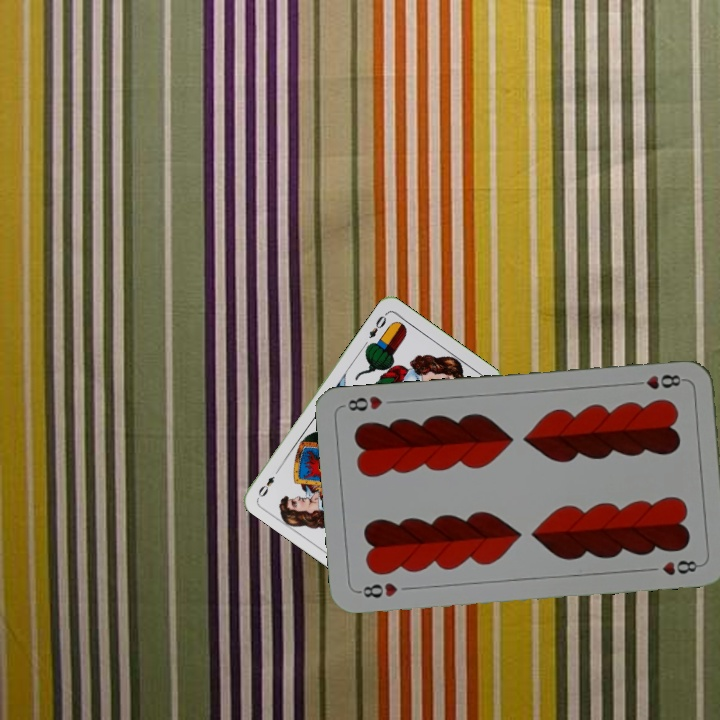EO: (365, 309, 390, 341)
H8: (629, 370, 688, 392), (354, 578, 400, 601)
